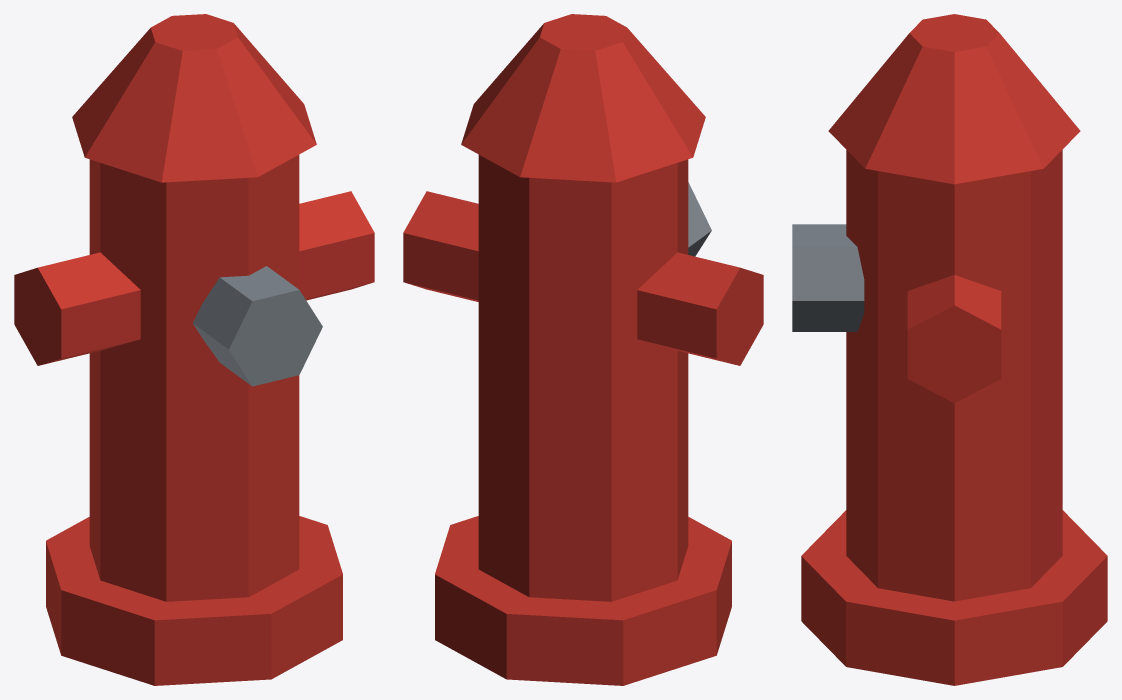
File: hydrant.glb
3 renders of one model, left to right at view 1: azimuth 30°, elevation 25°; view 2: azimuth 150°, elevation 25°; view 3: azimuth 270°, elevation 25°, orthographic.
Visible parts, largest first — view 1: hydrant_Body; view 2: hydrant_Body; view 3: hydrant_Body.
Part boxes in pixels (x1=…): hydrant_Body: x1=14, y1=14, x2=374, y2=685; hydrant_Body: x1=403, y1=14, x2=763, y2=685; hydrant_Body: x1=792, y1=14, x2=1107, y2=685.
Size of the model in its own units: 0.4 by 0.72 by 0.35.
